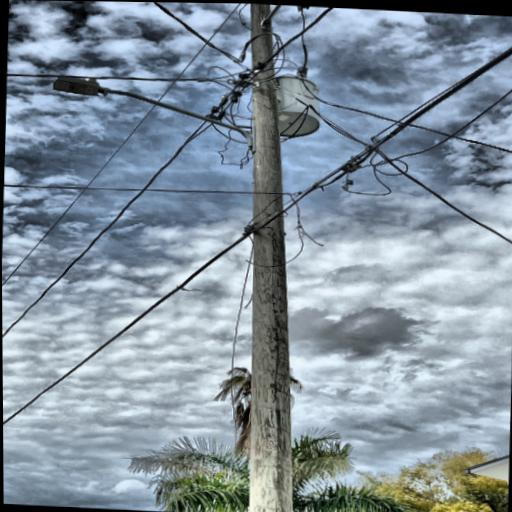pole: (214, 3, 343, 512)
street light: (48, 75, 260, 153)
transformer: (266, 71, 321, 138)
